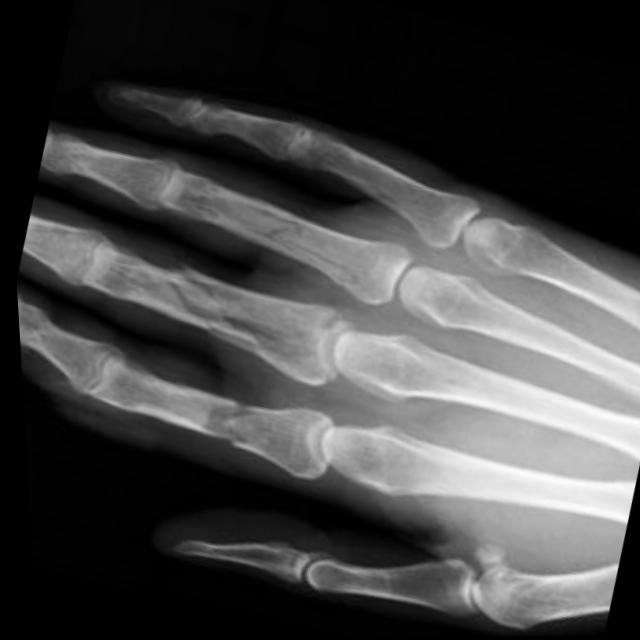fracture: (144, 253, 293, 373), (170, 380, 256, 480), (236, 198, 309, 268)
